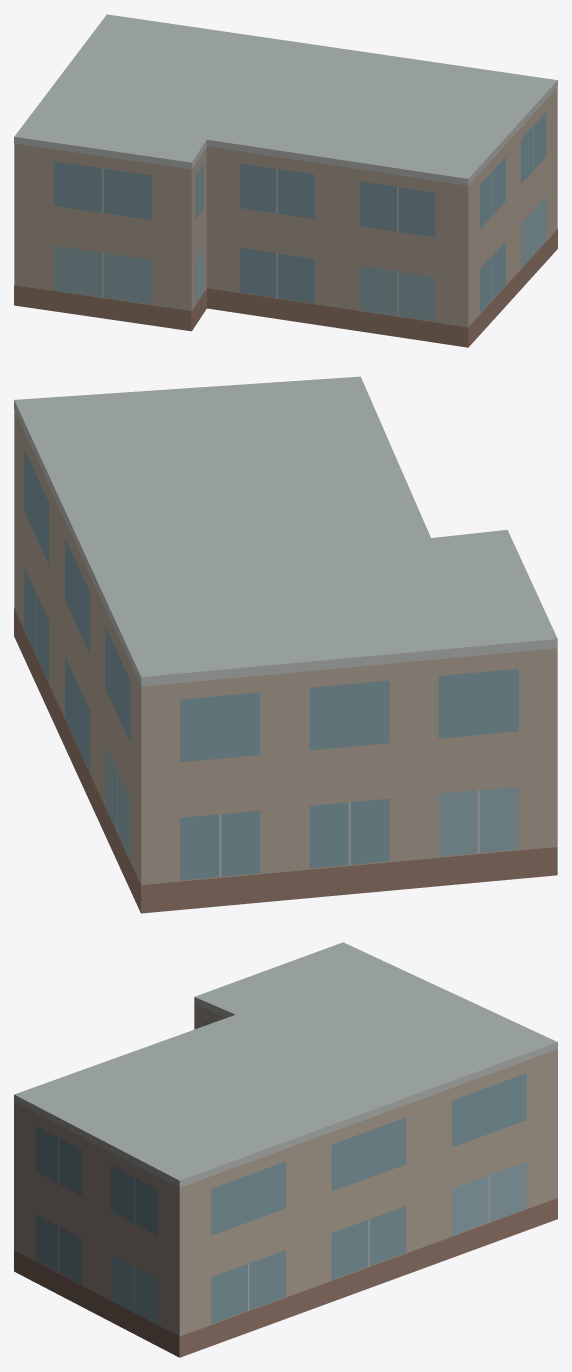
File: survey-upis-32789671.glb
3 renders of one model, top to bottom at view 1: azimuth 30°, elevation 25°; view 2: azimuth 150°, elevation 25°; view 3: azimuth 270°, elevation 25°, orthographic. The views are drawn at different scales.
Parts seen in each view (by area): view 1: survey-upis-32789671.tmp; view 2: survey-upis-32789671.tmp; view 3: survey-upis-32789671.tmp.
Part boxes in pixels (box(x1,y1,x2,y2)): survey-upis-32789671.tmp: box(14, 14, 557, 347); survey-upis-32789671.tmp: box(14, 376, 557, 913); survey-upis-32789671.tmp: box(14, 942, 557, 1357).
Bounding box in the file's own units: 17.64 × 6.1 × 17.
